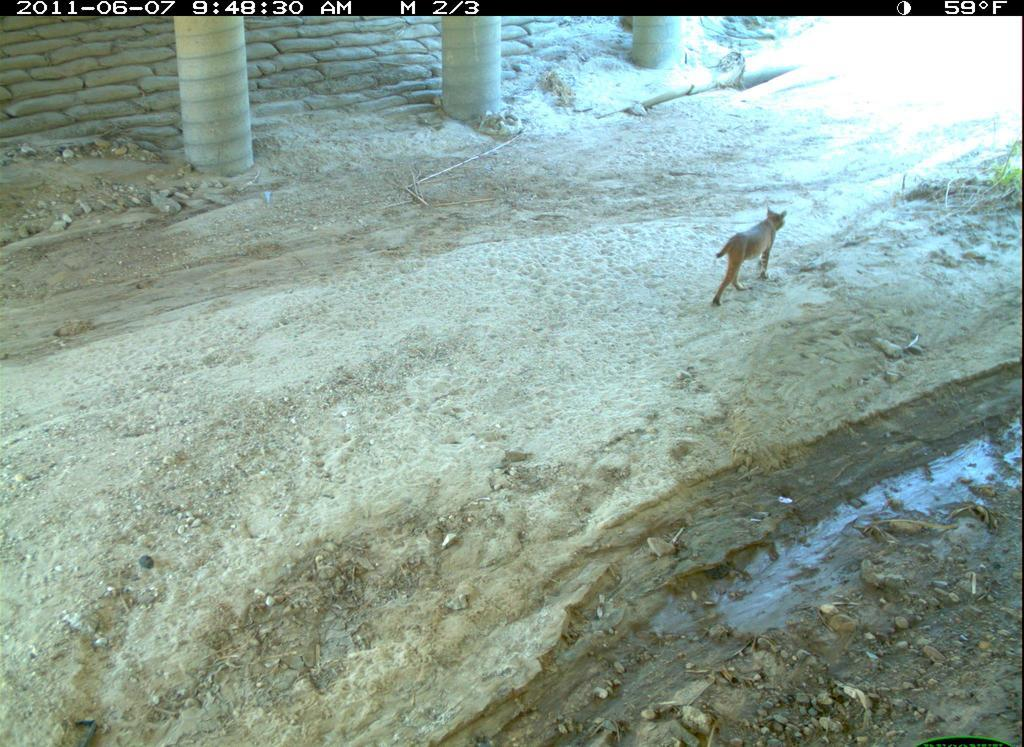bobcat: (710, 203, 792, 314)
